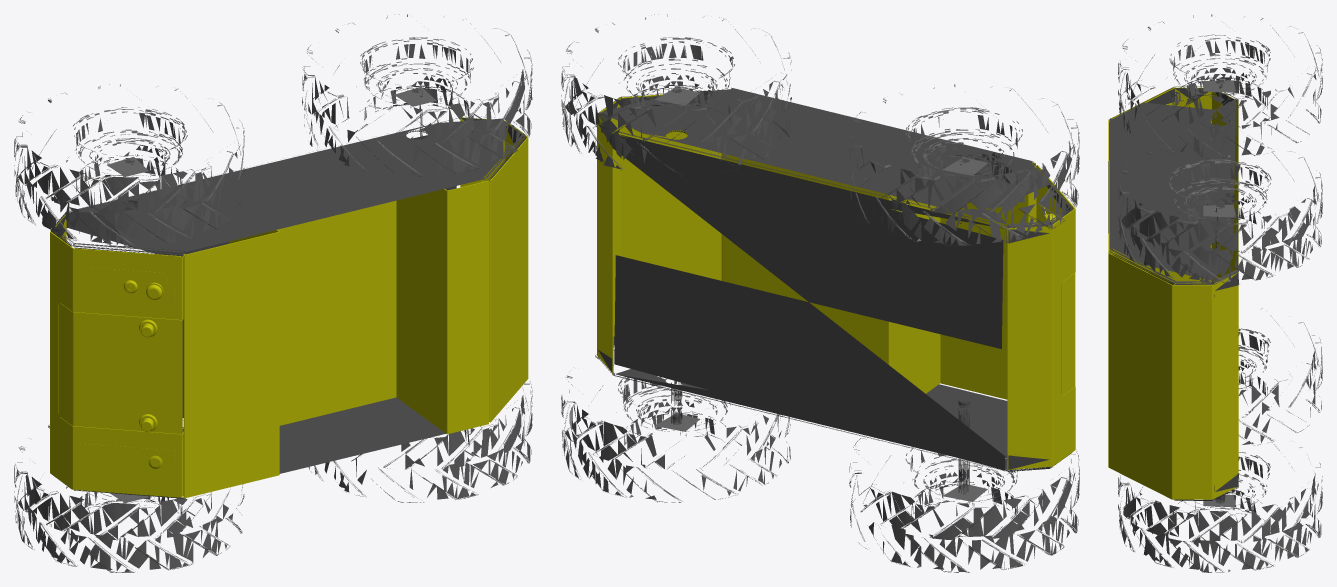
Rendered from husky.glb.
3 renders of one model, left to right at view 1: azimuth 30°, elevation 25°; view 2: azimuth 150°, elevation 25°; view 3: azimuth 270°, elevation 25°, orthographic. The views are drawn at different scales.
Visible parts, largest first — view 1: top_chassis, base_link, rear_left_wheel, rear_right_wheel, front_left_wheel, front_right_wheel; view 2: base_link, top_chassis, rear_left_wheel, rear_right_wheel, front_left_wheel, front_right_wheel; view 3: top_chassis, base_link, front_left_wheel, front_right_wheel, rear_left_wheel, rear_right_wheel.
Boxes of the visible parts, x1=… form: top_chassis: x1=50, y1=117, x2=528, y2=498; base_link: x1=50, y1=88, x2=525, y2=498; rear_left_wheel: x1=14, y1=84, x2=244, y2=246; rear_right_wheel: x1=14, y1=420, x2=244, y2=572; front_left_wheel: x1=302, y1=14, x2=532, y2=176; front_right_wheel: x1=308, y1=381, x2=532, y2=502; base_link: x1=598, y1=87, x2=1072, y2=494; top_chassis: x1=597, y1=94, x2=1075, y2=469; rear_left_wheel: x1=849, y1=84, x2=1079, y2=246; rear_right_wheel: x1=849, y1=438, x2=1079, y2=572; front_left_wheel: x1=561, y1=14, x2=791, y2=176; front_right_wheel: x1=561, y1=350, x2=790, y2=502; top_chassis: x1=1108, y1=87, x2=1238, y2=499; base_link: x1=1110, y1=80, x2=1239, y2=503; front_left_wheel: x1=1118, y1=138, x2=1322, y2=282; front_right_wheel: x1=1118, y1=431, x2=1322, y2=572; rear_left_wheel: x1=1118, y1=14, x2=1322, y2=158; rear_right_wheel: x1=1238, y1=308, x2=1322, y2=445.
Size of the model in its own units: 0.8676 by 0.6693 by 0.3723.
